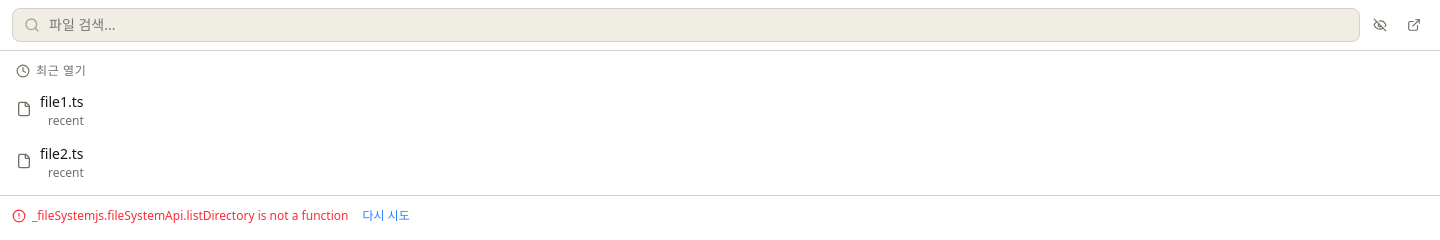
QuickFileExplorer › should show "검색 결과가 없습니다." when no results
Type "nonexistent" into the field with placeholder "파일 검색..." at (686, 25), box [12,8,1360,42]
Wait 300 ms
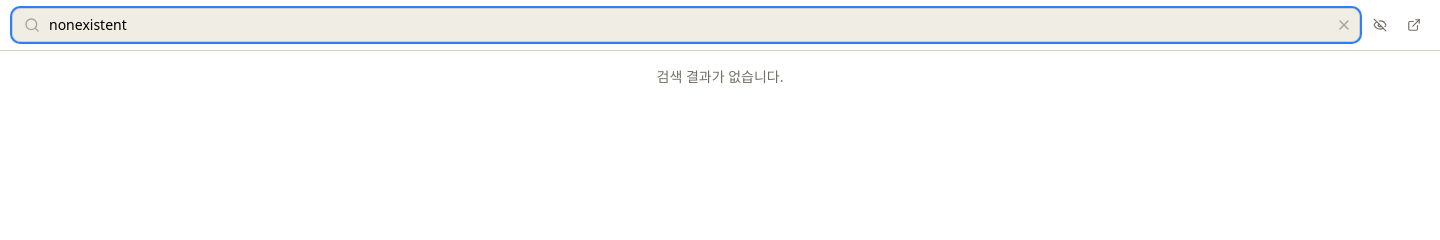
Expected: the text "검색 결과가 없습니다." is shown, [656,67,784,86]
